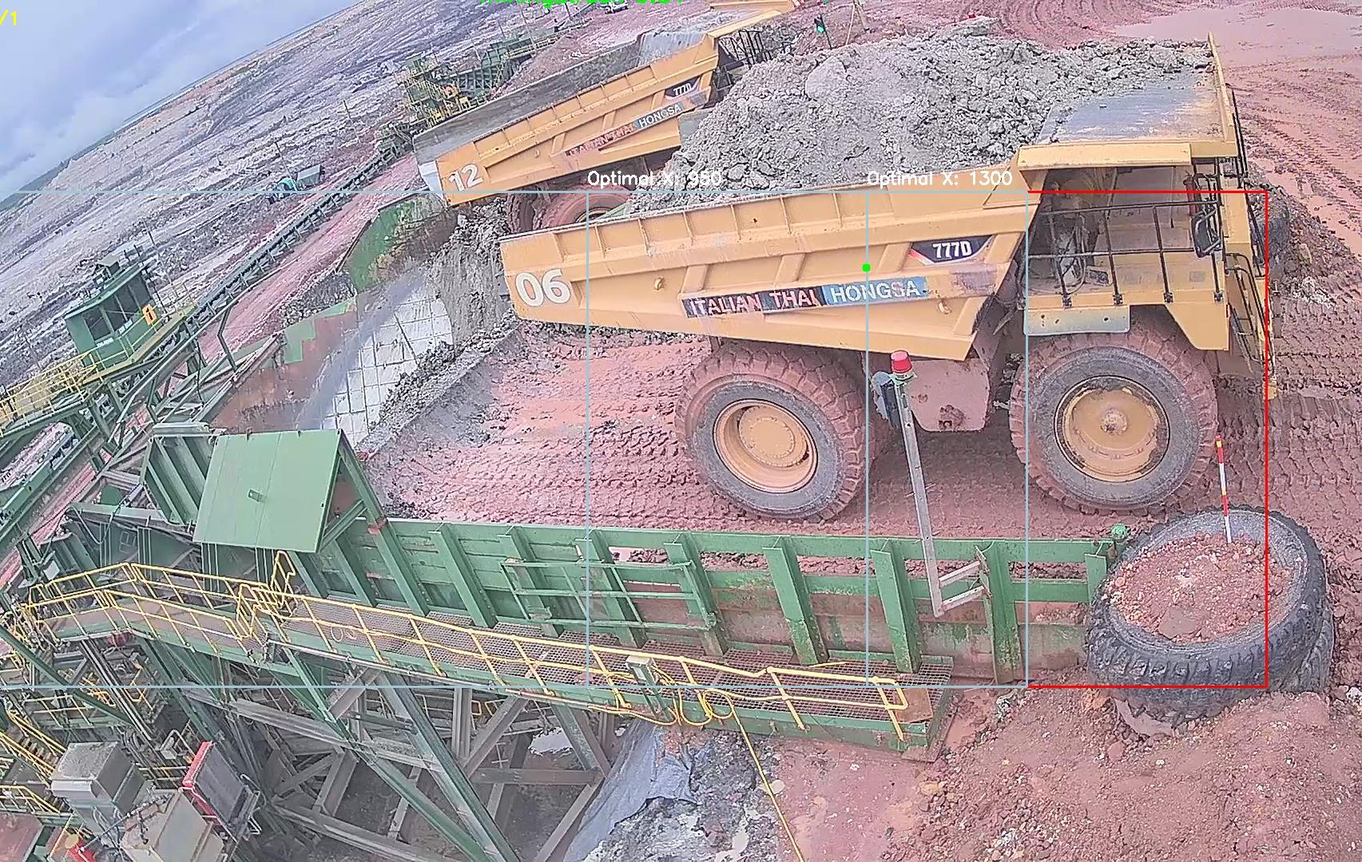company: (669, 266, 932, 317)
full_load: (737, 21, 1021, 204)
mining_truck: (494, 10, 1287, 519)
tail_number: (508, 259, 580, 316)
truck_size: (905, 230, 1001, 267)
